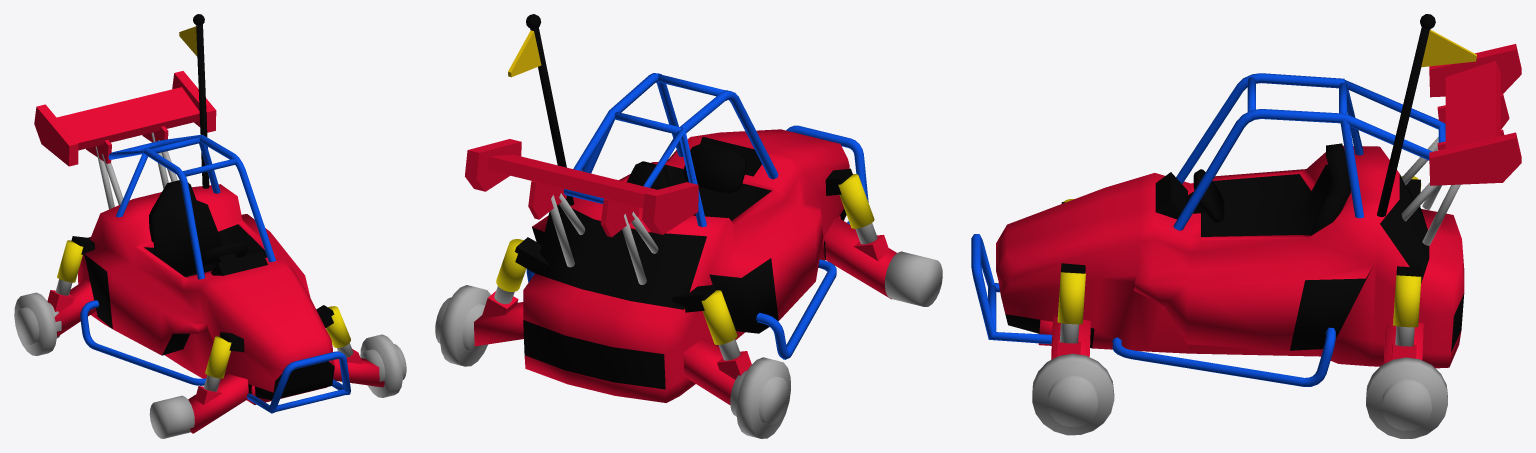
Rendered from player-kart-body.glb.
The picture shows the model from 3 angles, left to right: view 1: azimuth 30°, elevation 25°; view 2: azimuth 150°, elevation 25°; view 3: azimuth 270°, elevation 25°; orthographic projection. The views are drawn at different scales.
Visible parts, largest first — view 1: Cube, Cube.025, Cube.010, Cube.004, Cube.006, Cube.011, Cylinder.007, Cylinder.004, Cylinder.002, Cylinder.012, Cylinder.010, Cube.007 (+9 smaller); view 2: Cube, Cube.025, Cube.010, Cylinder.007, Cube.006, Cylinder.004, Cylinder, Cube.002, Cube.011, Cube.007, Cylinder.010, Cube.012 (+17 smaller); view 3: Cube, Cube.025, Cube.010, Cube.012, Cylinder.002, Cylinder, Cube.004, Cylinder.001, Cylinder.003, Cylinder.012, Cube.011, Cylinder.010 (+7 smaller).
Part boxes in pixels (x1,y1,x2,y2): Cube: (78,184,334,400); Cube.025: (80,134,350,413); Cube.010: (57,87,199,150); Cube.004: (149,180,222,275); Cube.006: (188,374,248,433); Cube.011: (34,104,78,166); Cylinder.007: (149,395,194,438); Cylinder.004: (14,292,56,355); Cylinder.002: (360,334,402,397); Cylinder.012: (193,14,209,188); Cylinder.010: (95,132,177,209); Cube.007: (54,279,96,336); Cube: (523,129,849,402); Cube.025: (526,73,868,359); Cube.010: (487,154,657,207); Cylinder.007: (885,251,942,306); Cube.006: (825,216,896,299); Cylinder.004: (736,357,790,438); Cylinder: (440,285,490,366); Cube.002: (683,144,746,193); Cube.011: (642,182,698,234); Cube.007: (683,338,734,404); Cylinder.010: (550,193,658,284); Cube.012: (465,139,521,191); Cube: (996,145,1464,368); Cube.025: (971,73,1445,386); Cube.010: (1445,60,1500,148); Cube.012: (1429,132,1521,185); Cylinder.002: (1032,353,1114,435); Cylinder: (1366,357,1447,438); Cube.004: (1291,143,1350,235); Cylinder.001: (1382,379,1431,430); Cylinder.003: (1048,375,1097,426); Cylinder.012: (1377,14,1435,216); Cube.011: (1429,44,1521,97); Cylinder.010: (1401,137,1460,245).
Bounding box in the file's own units: 0.6302 × 0.6902 × 0.8916.
